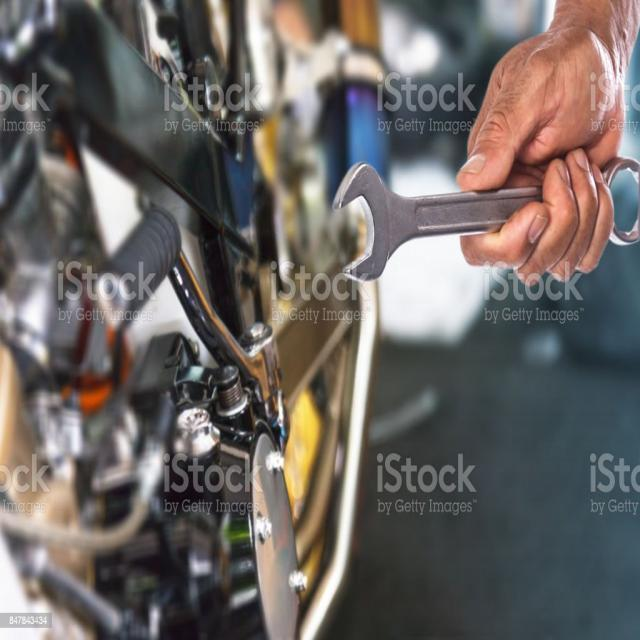wrench: (329, 155, 640, 280)
